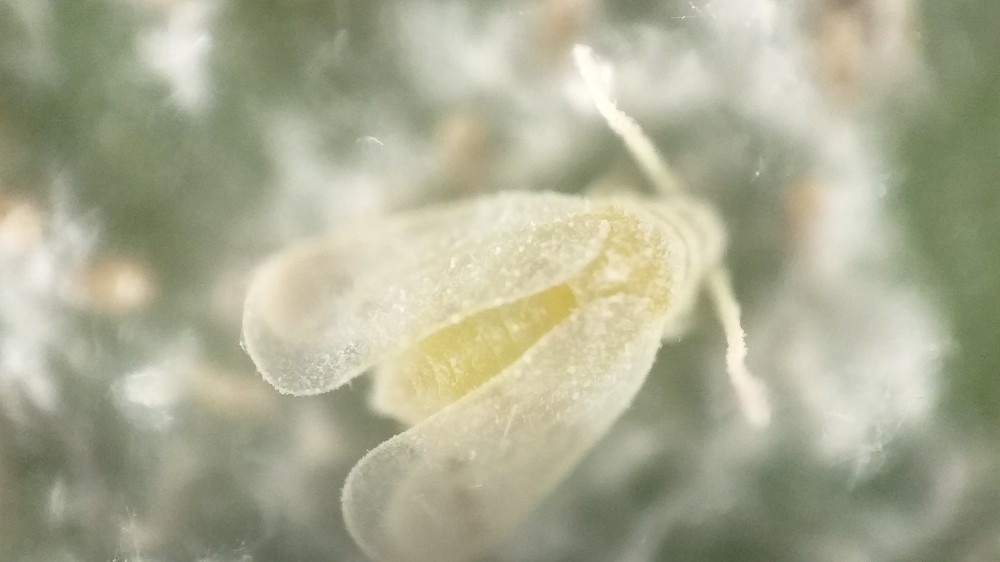Mosca Blanca: (235, 44, 783, 556)
